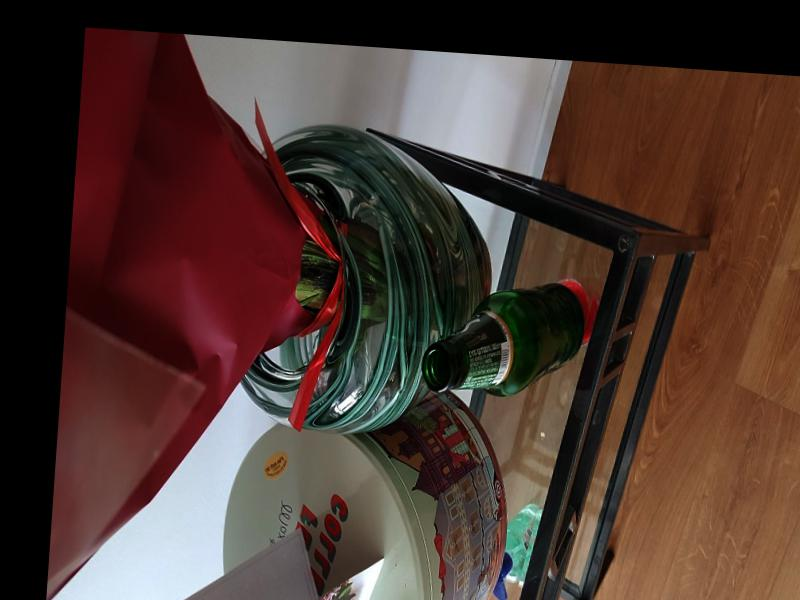Beer: (421, 273, 587, 402)
